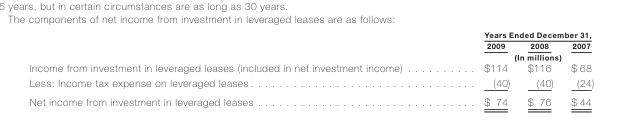table: (28, 29, 593, 107)
table column: (28, 29, 442, 107), (442, 29, 518, 107), (518, 29, 561, 107), (561, 29, 593, 107)
table column header: (28, 29, 593, 61)
table row: (28, 74, 593, 91), (28, 91, 593, 107), (28, 61, 593, 74), (28, 39, 593, 50), (28, 50, 593, 61), (28, 29, 593, 39)
table spanning cell: (442, 50, 593, 61), (442, 29, 593, 39)
